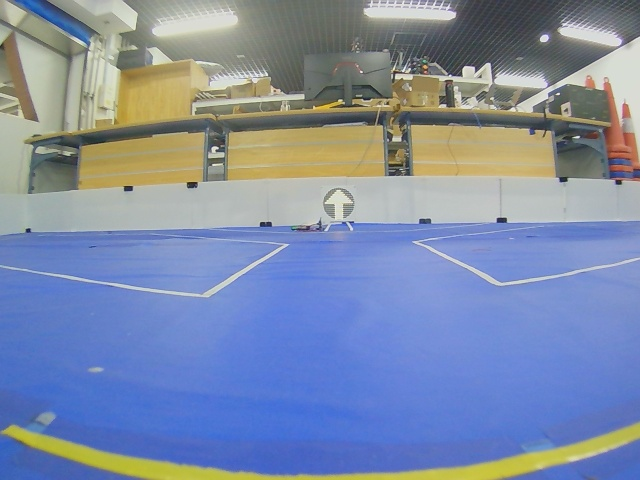straight_yellow: (324, 188, 354, 221)
